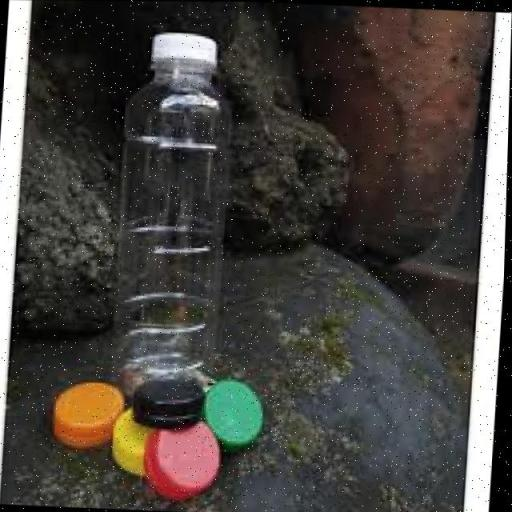plastic: (114, 33, 234, 404)
